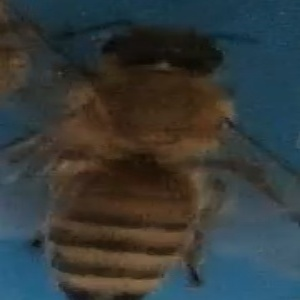bee: (60, 20, 288, 300)
